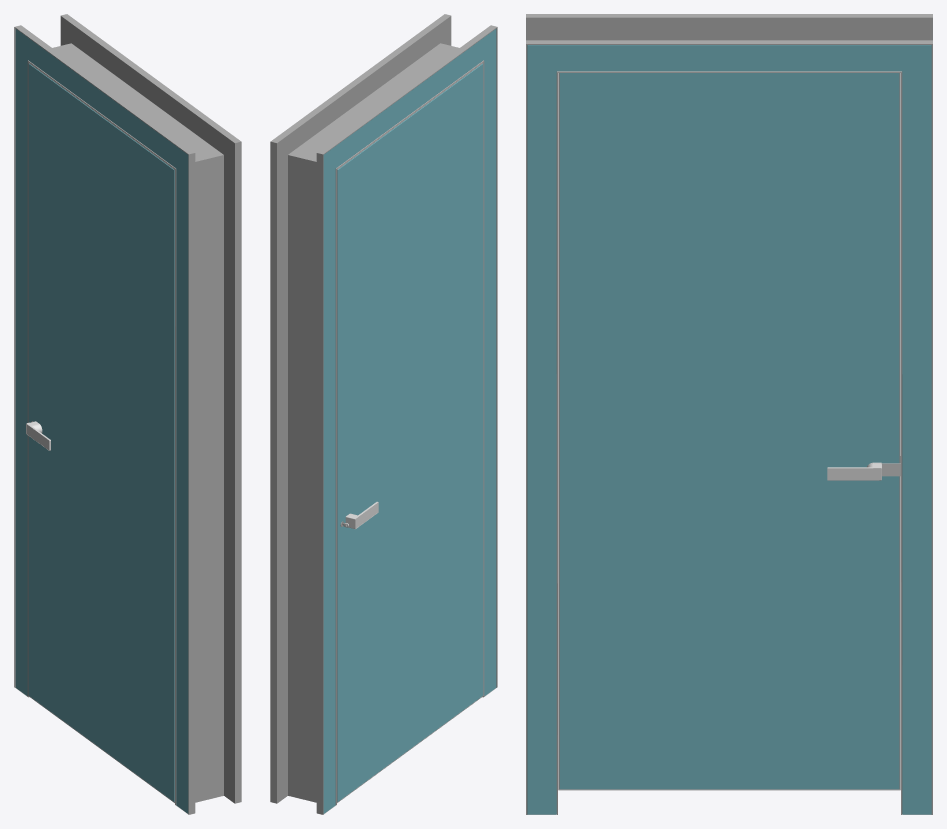
File: winding_2.fbx
3 views of the same model, side by side, from view 1: azimuth 30°, elevation 25°; view 2: azimuth 150°, elevation 25°; view 3: azimuth 270°, elevation 25° (orthographic). The views are drawn at different scales.
Parts seen in each view (by area): view 1: Box613.002, C-Ext001.002; view 2: Box613.002, C-Ext001.002, Rectangle0.003; view 3: Box613.002, C-Ext001.002, Rectangle0.003.
Boxes of the visible parts, x1,y1,x2,y2 form: Box613.002: (28, 62, 174, 802); C-Ext001.002: (14, 14, 241, 814); Box613.002: (337, 62, 483, 802); C-Ext001.002: (270, 14, 497, 814); Rectangle0.003: (345, 501, 378, 529); Box613.002: (558, 73, 900, 790); C-Ext001.002: (526, 14, 932, 814); Rectangle0.003: (827, 462, 881, 480).
Bounding box in the file's own units: 37.5 × 375 × 180.
